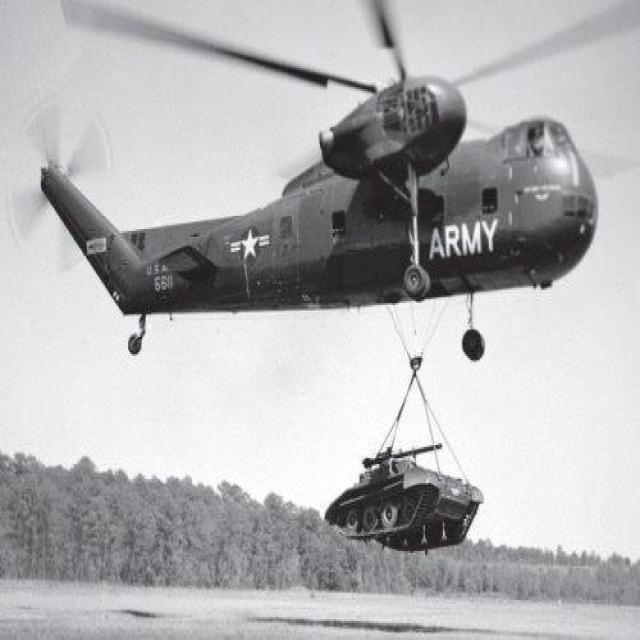Tanks: (297, 372, 513, 605)
